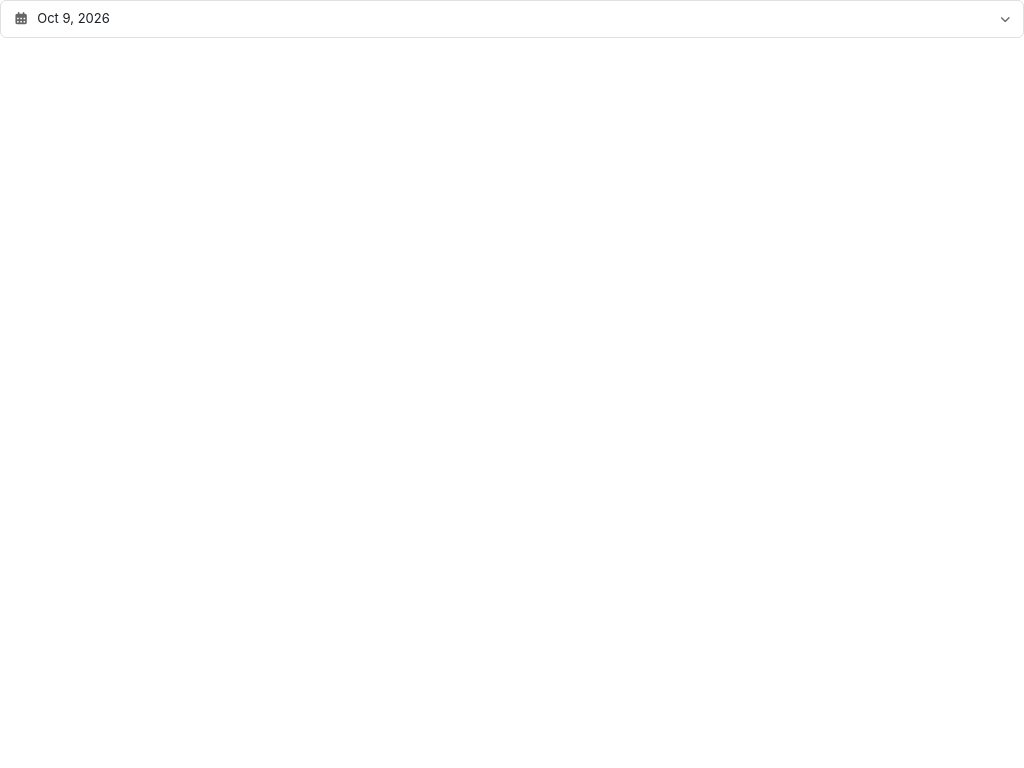
Test: DatePicker › pages the year picker by twelve years
This screenshot has width=1024, height=768.
Click the button with class "dp-trigger": point(74, 18) [0,0,1023,38]
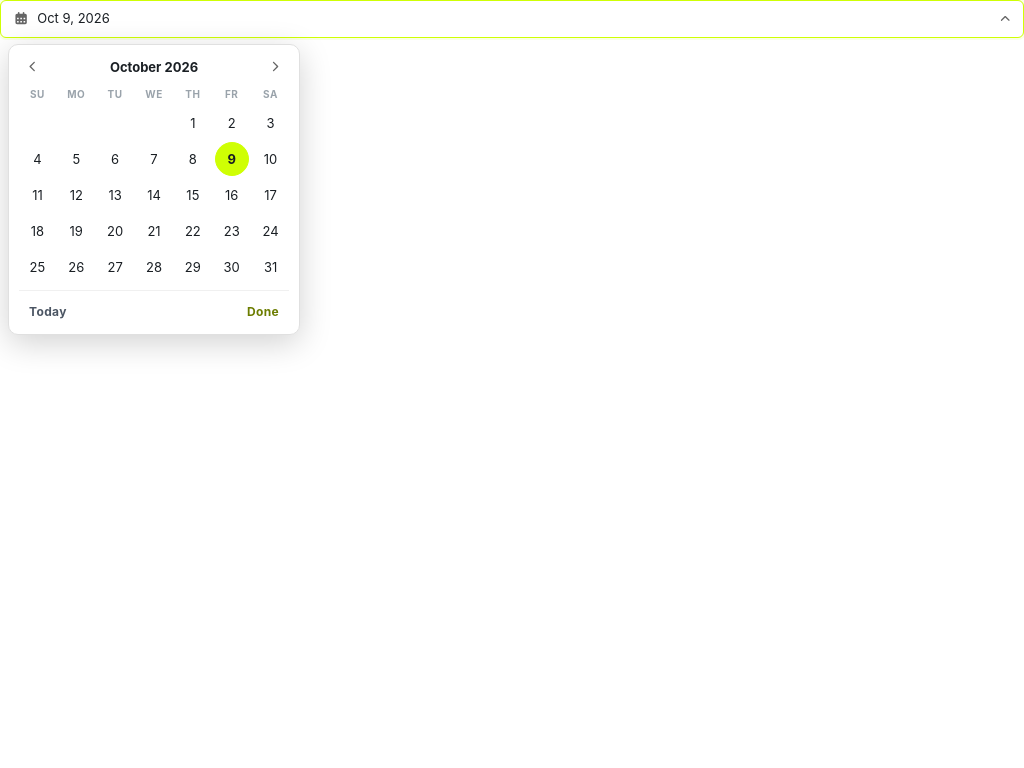
Click the button with aria-label "Choose month": point(154, 67) [51,53,257,81]
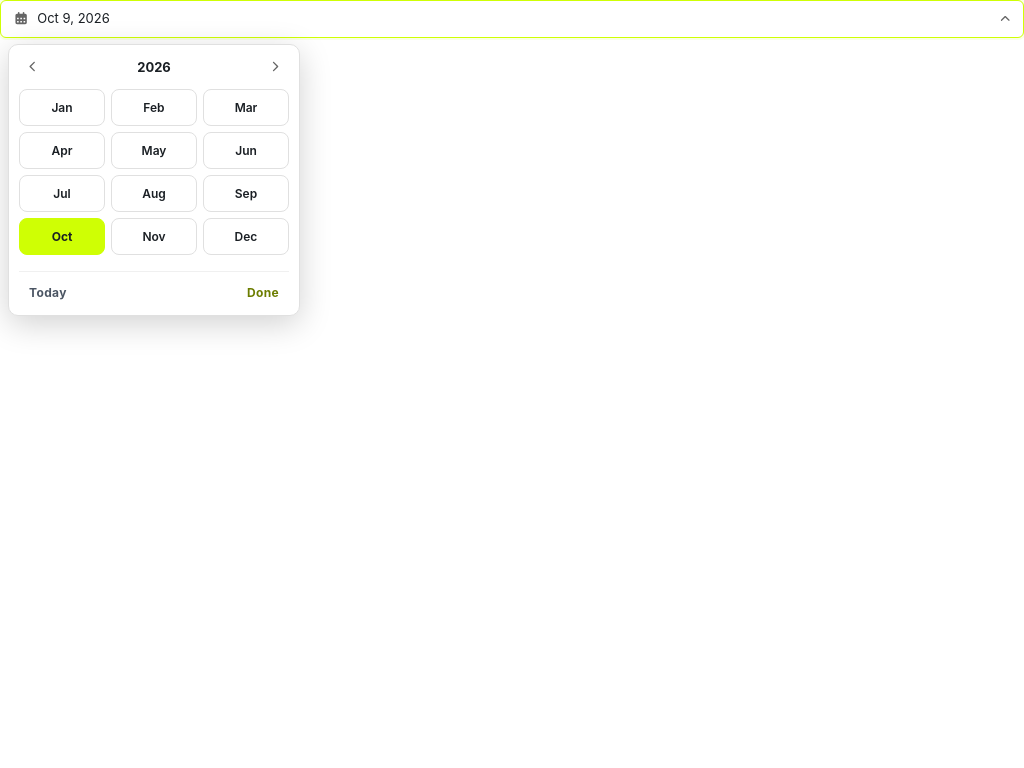
Click the button named "Choose year": point(154, 67) [51,53,257,81]
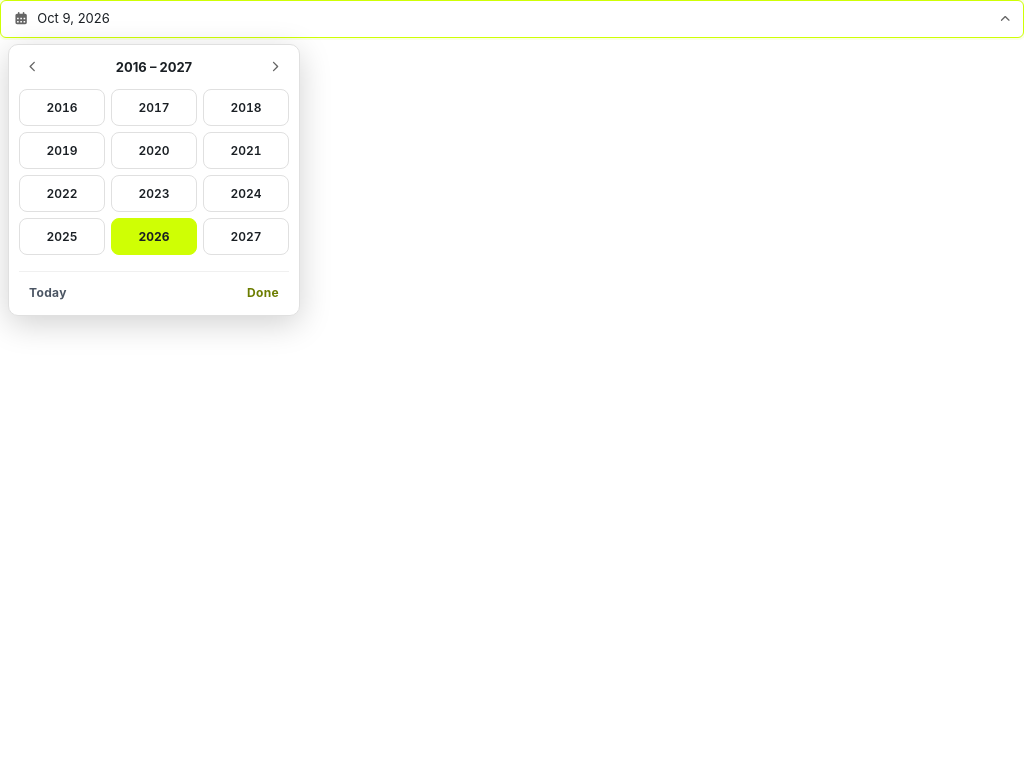
Click the button named "Next years": point(275, 67) [261,53,289,81]
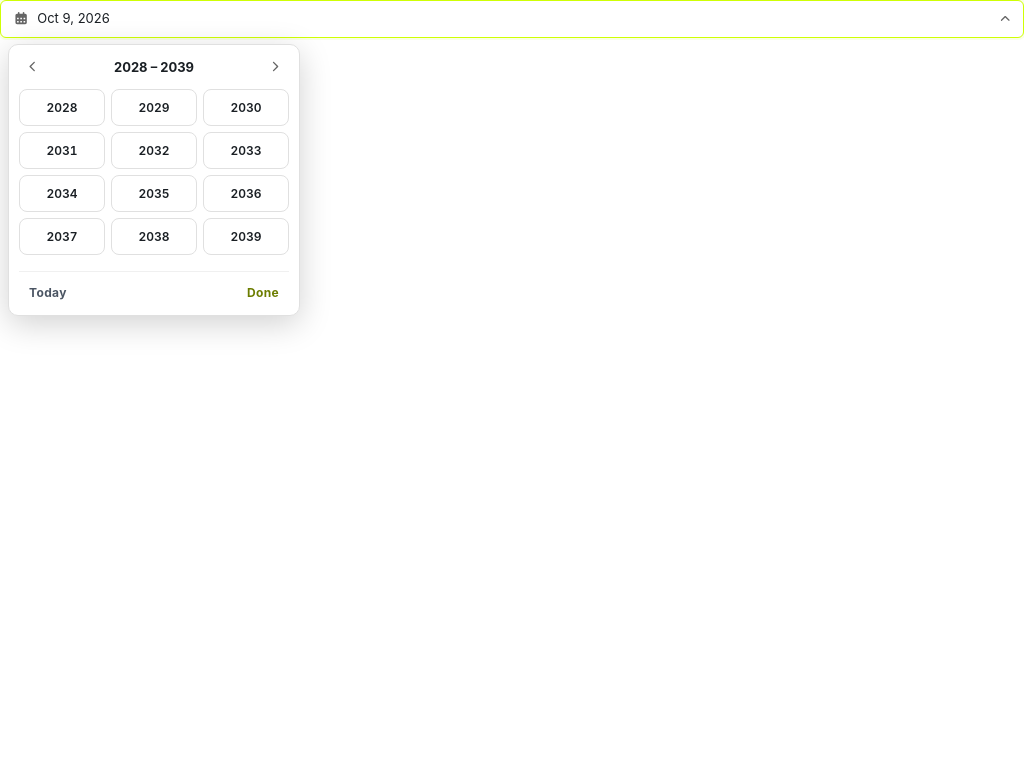
Expected: the button "2028" is shown, [19,89,105,126]
Expected: the button "2016" is gone
